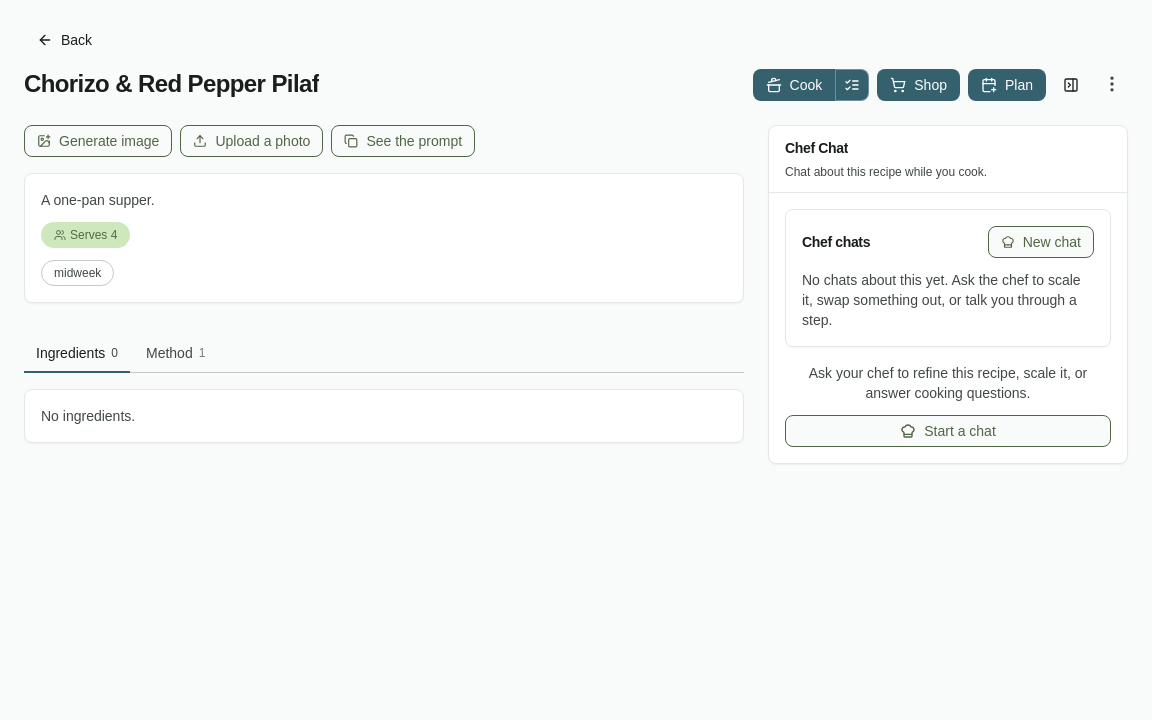
Scenario: RecipeViewPage — Refresh asks the chef, then proposes › sends one canned turn and reviews the reply, all from one tap
The image size is (1152, 720).
Click the button with test id "recipe-actions-overflow" at [1112, 84], box [1096, 68, 1128, 100]
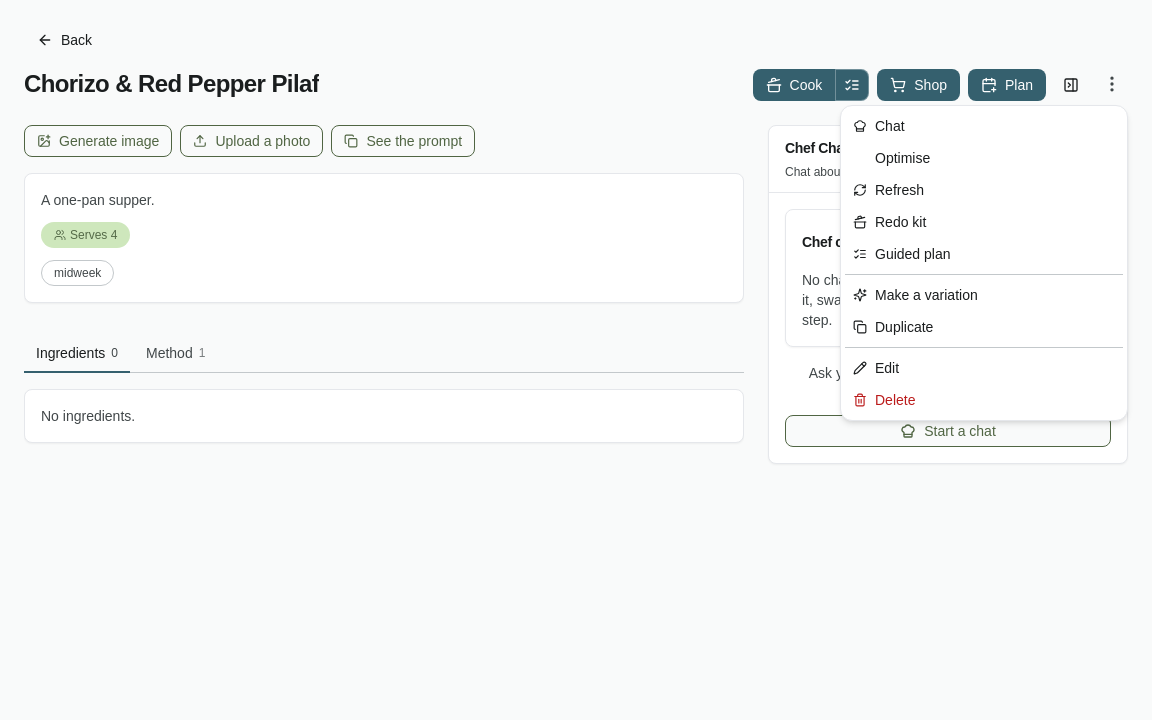
Result: the button with test id "recipe-refresh-menu-item" is shown
Click the button with test id "recipe-refresh-menu-item" at [900, 190], box [845, 174, 1123, 206]
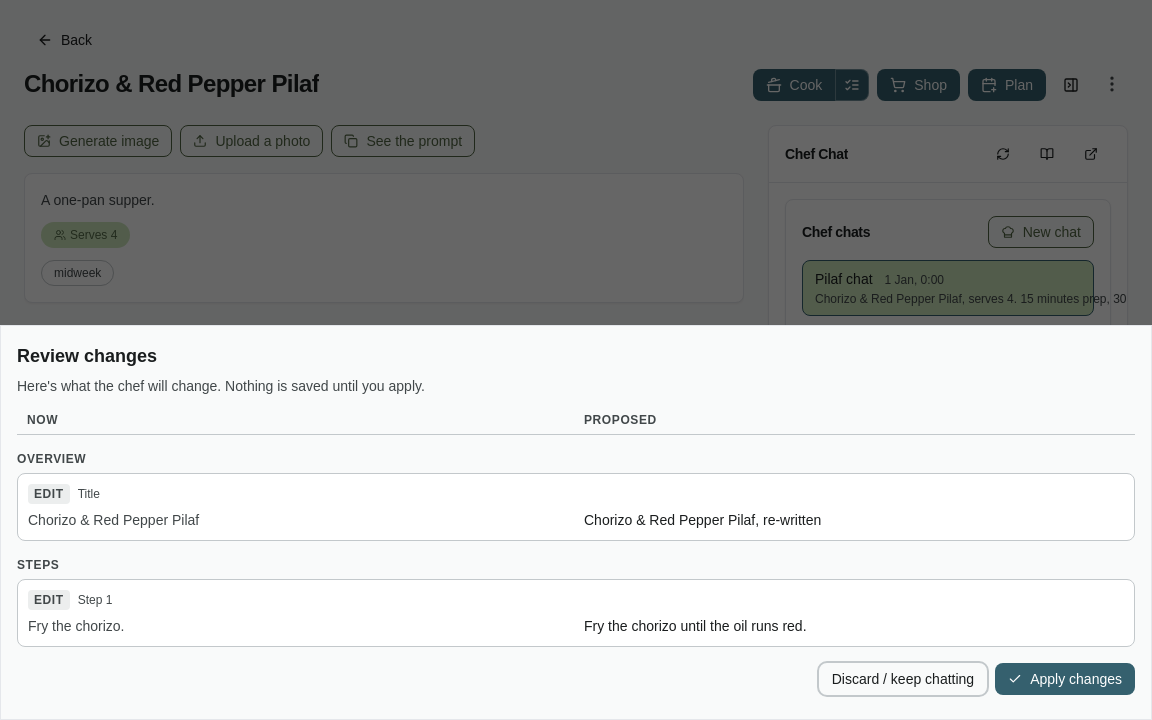
Result: the element with test id "recipe-change-summary" is shown at [17, 412, 1135, 647]
